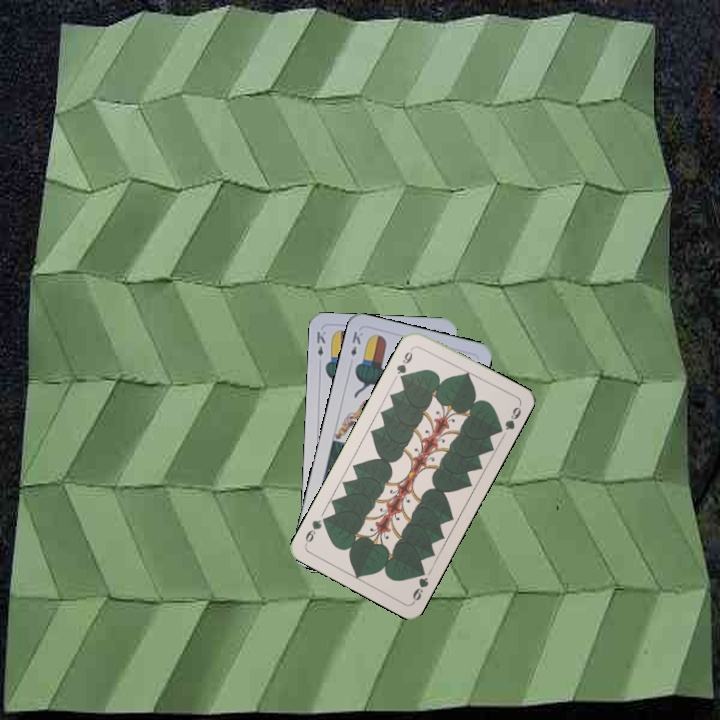EK: (347, 327, 365, 359), (313, 327, 328, 359)
G9: (393, 343, 416, 383), (409, 564, 431, 605)
